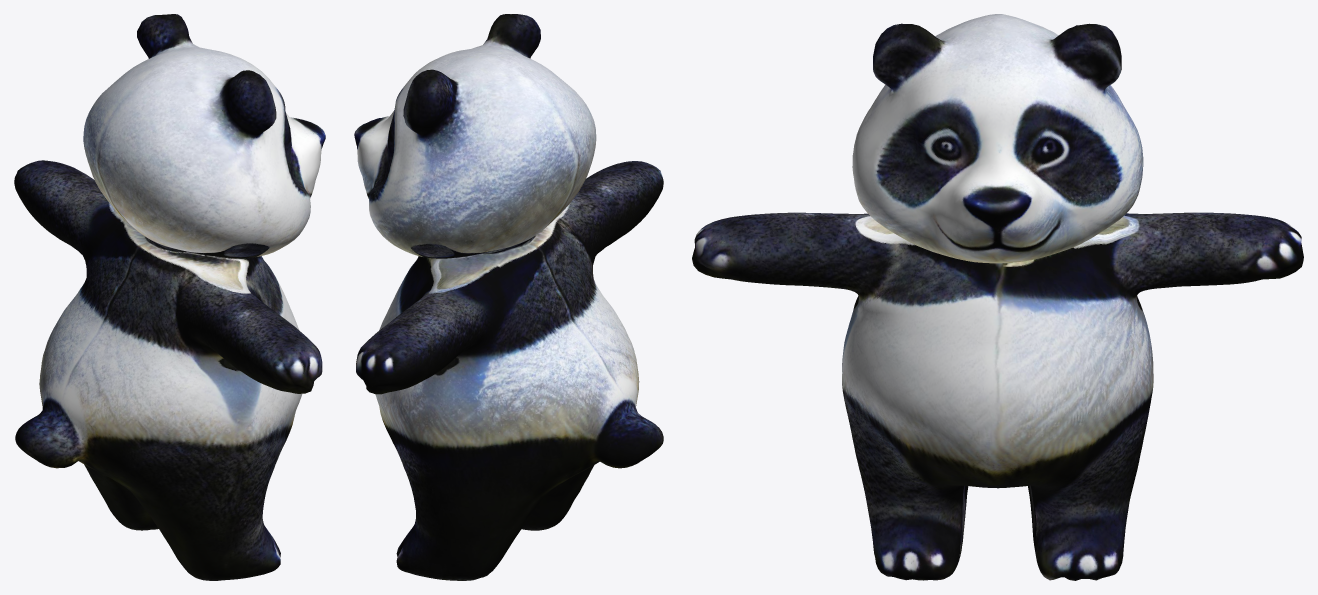
The model's file is a_cute_panda_min.glb.
The picture shows the model from 3 angles, left to right: view 1: azimuth 30°, elevation 25°; view 2: azimuth 150°, elevation 25°; view 3: azimuth 270°, elevation 25°; orthographic projection. The views are drawn at different scales.
Parts seen in each view (by area): view 1: mesh; view 2: mesh; view 3: mesh.
Part boxes in pixels (left/top/right/bottom): mesh: left=14, top=14, right=325, bottom=580; mesh: left=354, top=14, right=663, bottom=580; mesh: left=692, top=14, right=1303, bottom=580.
Bounding box in the file's own units: 0.6167 × 0.9792 × 0.9951.
1 material, 1 textured.
